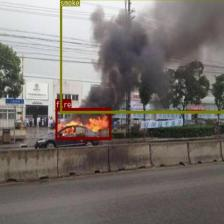fire: (55, 107, 111, 139)
smoke: (59, 0, 224, 112)
